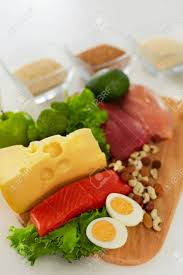Eggs: (106, 193, 150, 230), (87, 217, 130, 247)
Lettuce: (39, 112, 97, 124)
